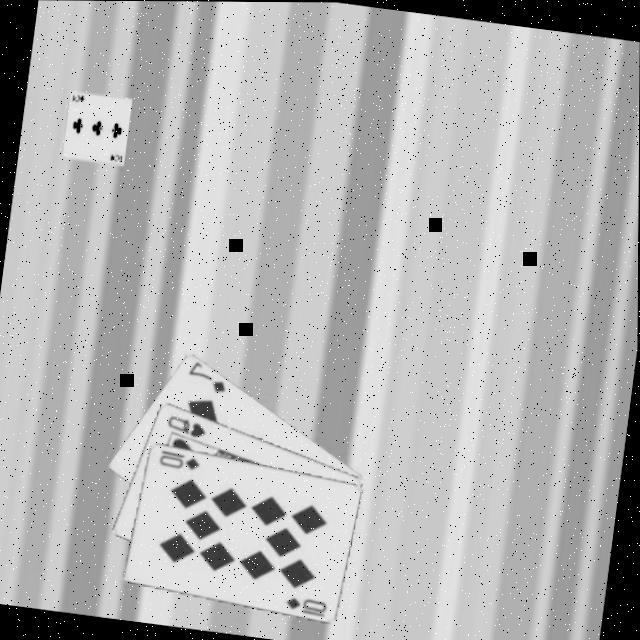10D: (280, 590, 329, 618), (153, 444, 201, 471)
7D: (180, 356, 230, 395)
QH: (160, 409, 209, 439)
